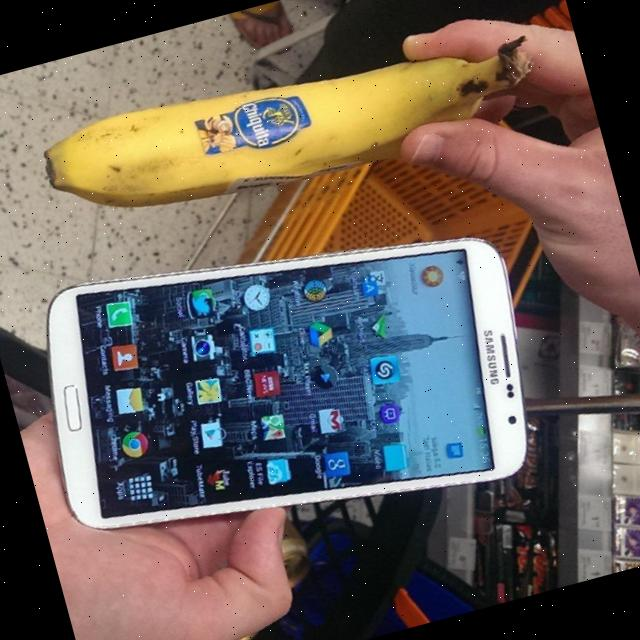banana: (42, 56, 479, 207)
